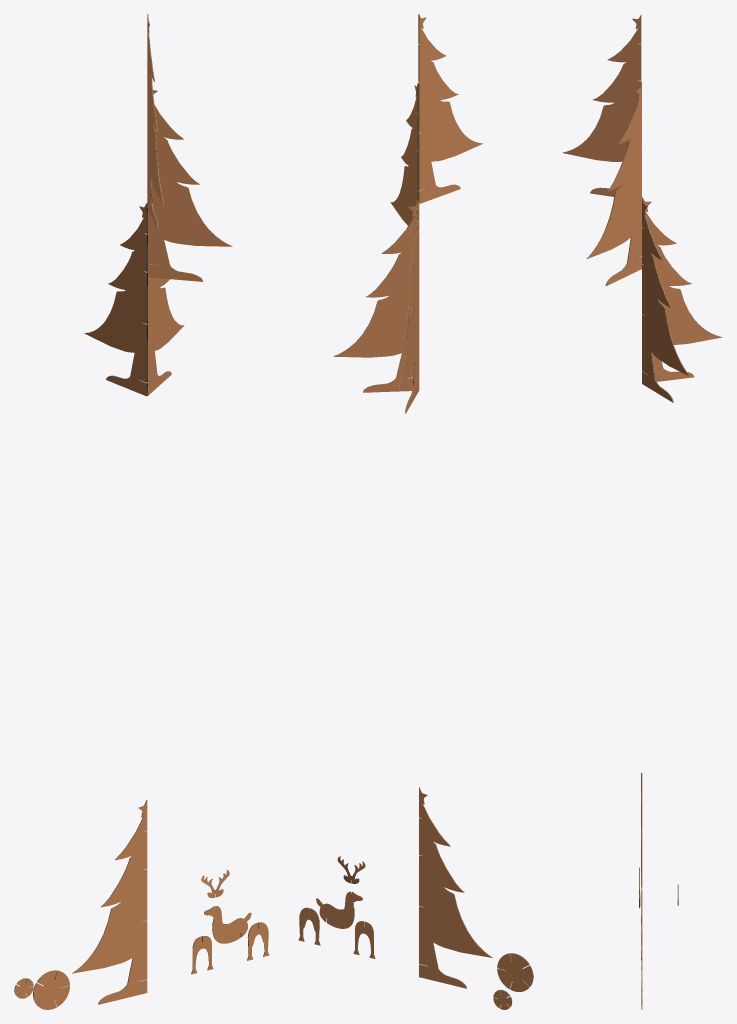
The model's file is arbol y ciervo.old.gltf.
3 views of the same model, side by side, from view 1: azimuth 30°, elevation 25°; view 2: azimuth 150°, elevation 25°; view 3: azimuth 270°, elevation 25° (orthographic). The views are drawn at different scales.
Parts seen in each view (by area): view 1: Curve.005, Curve.016, Curve.014, Curve.015, Curve.017, Curve.009, Curve.004; view 2: Curve.005, Curve.015, Curve.017, Curve.014, Curve.016, Curve.009, Curve.004; view 3: Curve.017, Curve.016, Curve.015, Curve.014.
Boxes of the visible parts, x1,y1,x2,y2 form: Curve.005: (72, 800, 147, 1004); Curve.016: (148, 90, 232, 281); Curve.014: (84, 203, 146, 396); Curve.015: (147, 203, 184, 395); Curve.017: (147, 14, 164, 230); Curve.009: (33, 970, 69, 1009); Curve.004: (204, 906, 251, 943); Curve.005: (419, 787, 492, 988); Curve.015: (333, 201, 417, 392); Curve.017: (418, 14, 482, 203); Curve.014: (398, 201, 419, 413); Curve.016: (390, 83, 418, 231); Curve.009: (497, 953, 533, 991); Curve.004: (316, 891, 362, 928); Curve.017: (563, 14, 641, 196); Curve.016: (586, 82, 641, 285); Curve.015: (642, 197, 689, 402); Curve.014: (643, 199, 722, 381).
Size of the model in its own units: 1.75 by 6.89 by 1.06.
39 materials, 13 textured.
